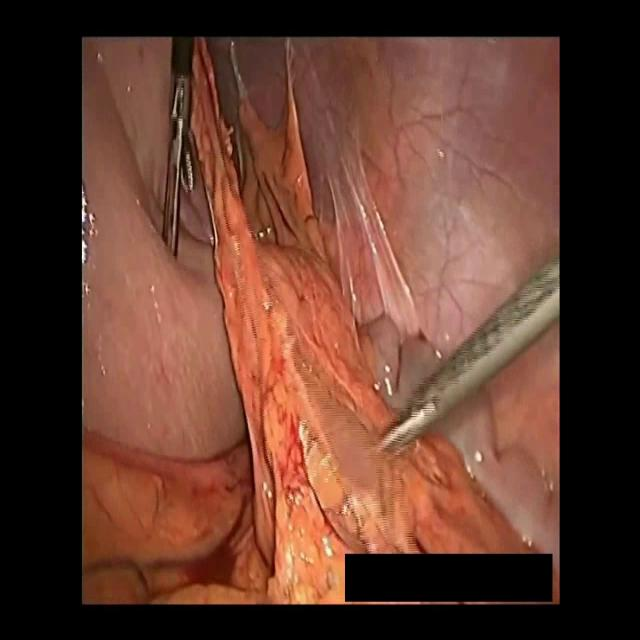surgical-area: (82, 36, 561, 609)
surgical-tool: (375, 252, 563, 461), (162, 36, 195, 260)
